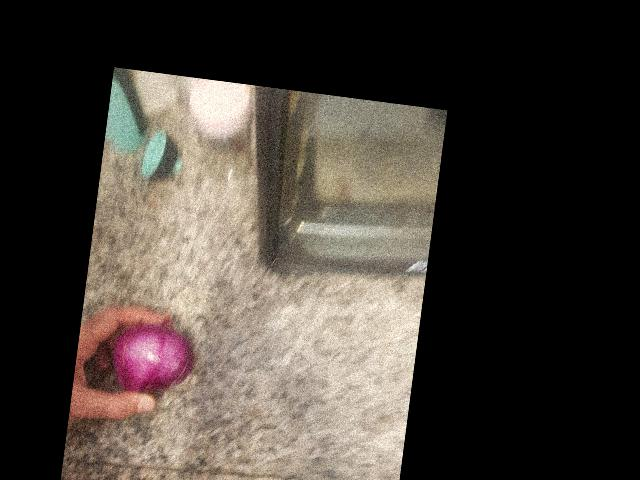onion: (317, 316, 411, 408)
